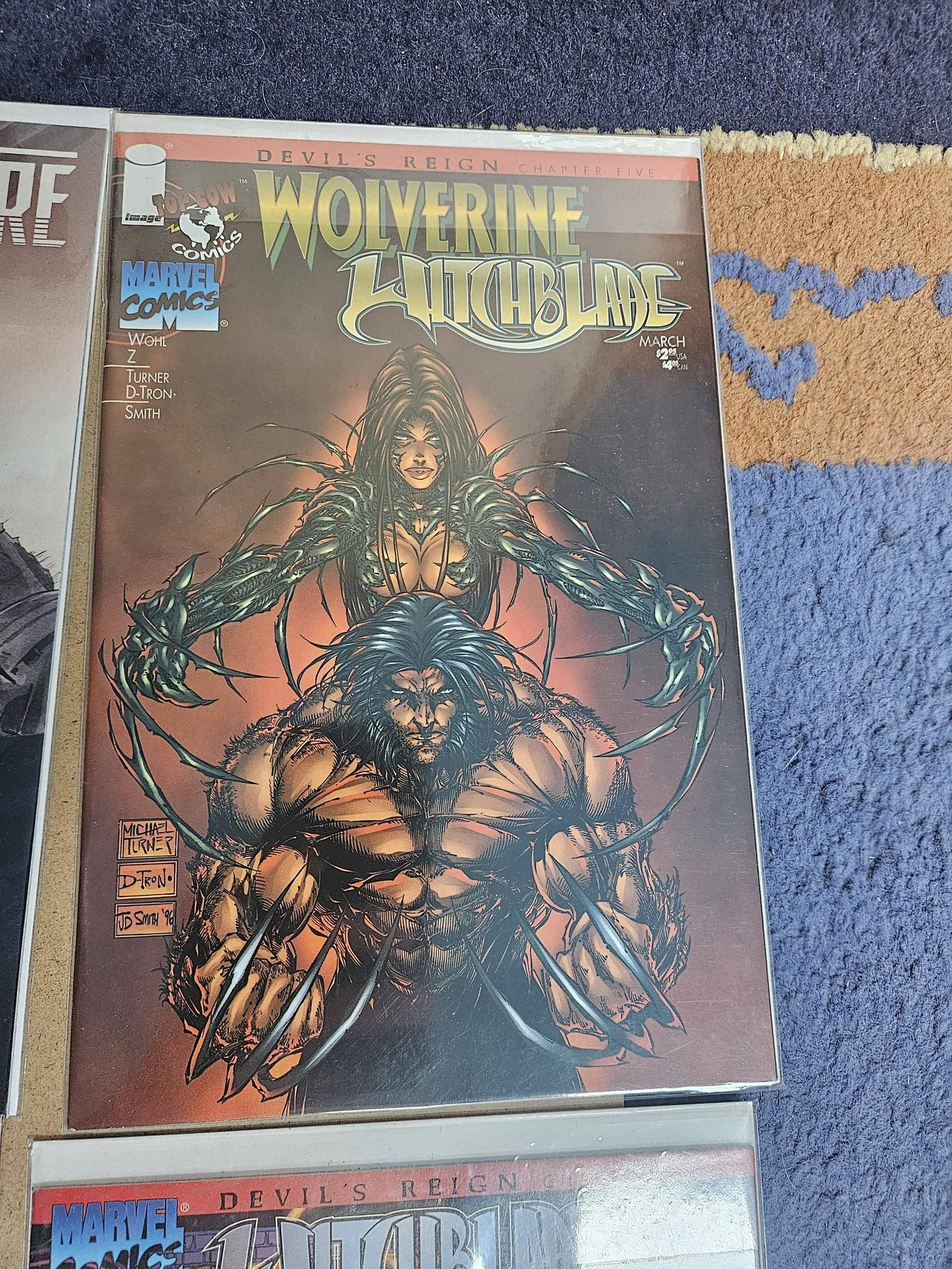comic: (69, 116, 777, 1128)
